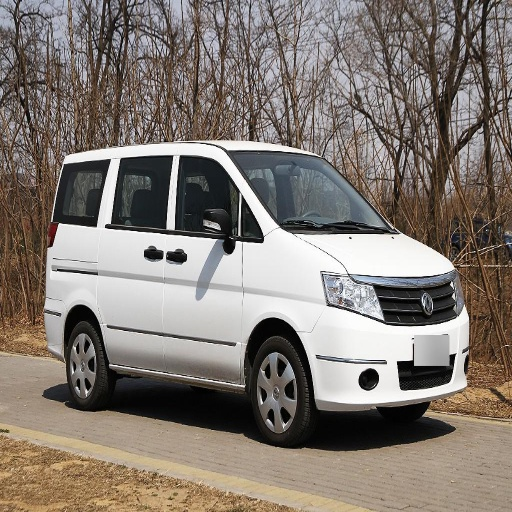front_bumper: (303, 274, 470, 409)
front_right_door: (163, 154, 241, 382)
front_right_light: (321, 270, 385, 320)
trunk: (48, 231, 97, 331)
